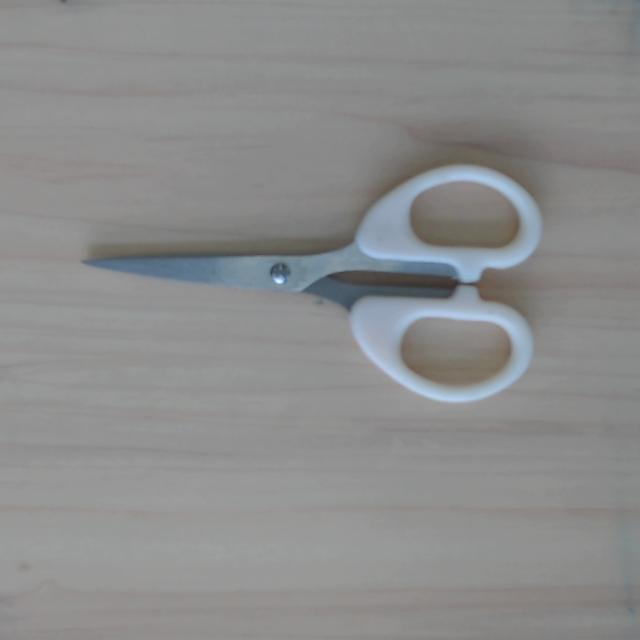Gunting: (81, 46, 589, 428)
